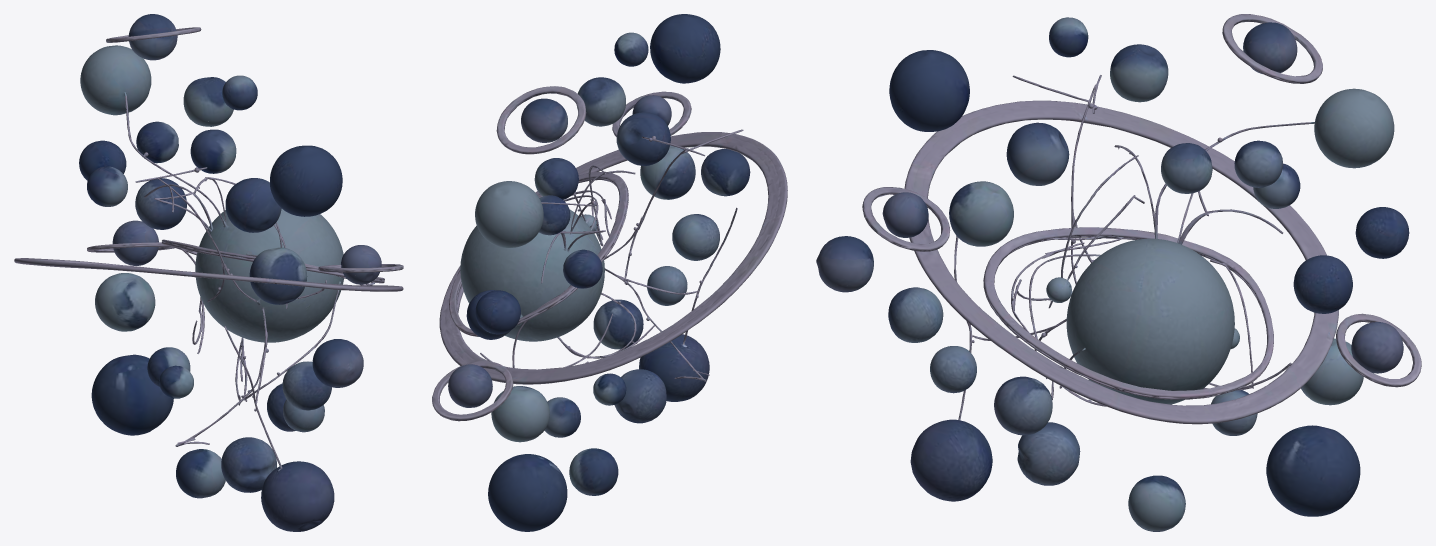
Rendered from cluster.glb.
3 views of the same model, side by side, from view 1: azimuth 30°, elevation 25°; view 2: azimuth 150°, elevation 25°; view 3: azimuth 270°, elevation 25° (orthographic). The views are drawn at different scales.
Visible parts, largest first — view 1: tripo_node_b8fe9952-88af-412b-bfa1-9f4d52cd6f3f; view 2: tripo_node_b8fe9952-88af-412b-bfa1-9f4d52cd6f3f; view 3: tripo_node_b8fe9952-88af-412b-bfa1-9f4d52cd6f3f.
Part boxes in pixels (box(x1,y1,x2,y2)): tripo_node_b8fe9952-88af-412b-bfa1-9f4d52cd6f3f: box(14, 14, 403, 531); tripo_node_b8fe9952-88af-412b-bfa1-9f4d52cd6f3f: box(432, 14, 787, 531); tripo_node_b8fe9952-88af-412b-bfa1-9f4d52cd6f3f: box(816, 14, 1421, 531).
Bounding box in the file's own units: 0.63 × 0.8283 × 0.8934.
Materials: 1 (1 with a texture image).
